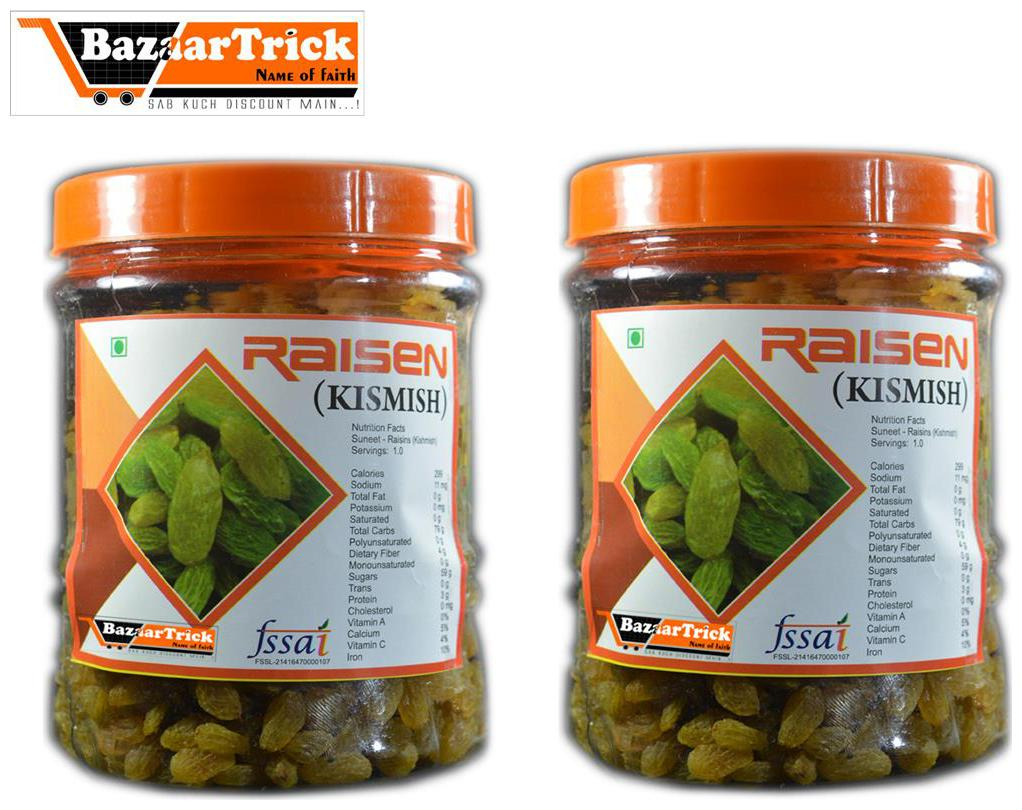fssai: (245, 617, 337, 658), (764, 613, 853, 651)
